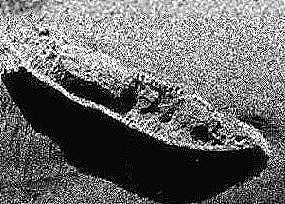ship: (1, 18, 270, 164)
